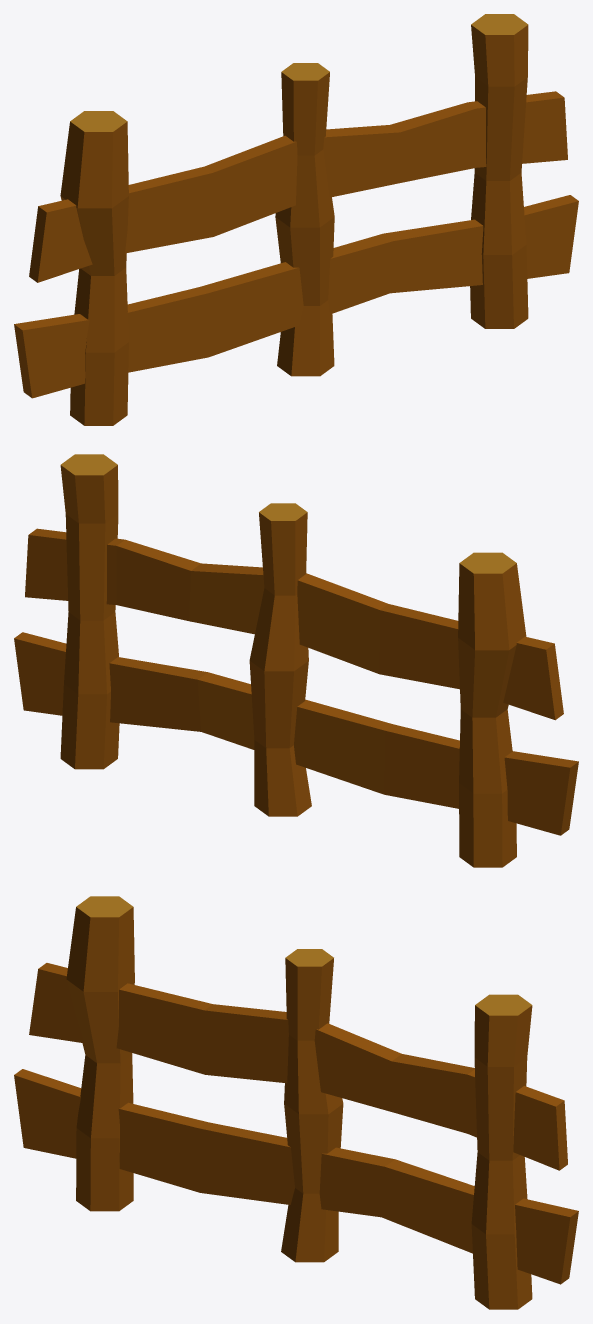
Rendered from fence.glb.
3 views of the same model, one above another, from view 1: azimuth 30°, elevation 25°; view 2: azimuth 150°, elevation 25°; view 3: azimuth 330°, elevation 25° (orthographic).
Visible parts, largest first — view 1: fence; view 2: fence; view 3: fence.
Boxes of the visible parts, x1,y1,x2,y2 form: fence: (14, 14, 578, 425); fence: (14, 454, 578, 867); fence: (14, 896, 578, 1309).
Size of the model in its own units: 6.08 by 3.07 by 0.6487.
1 material, 1 textured.
